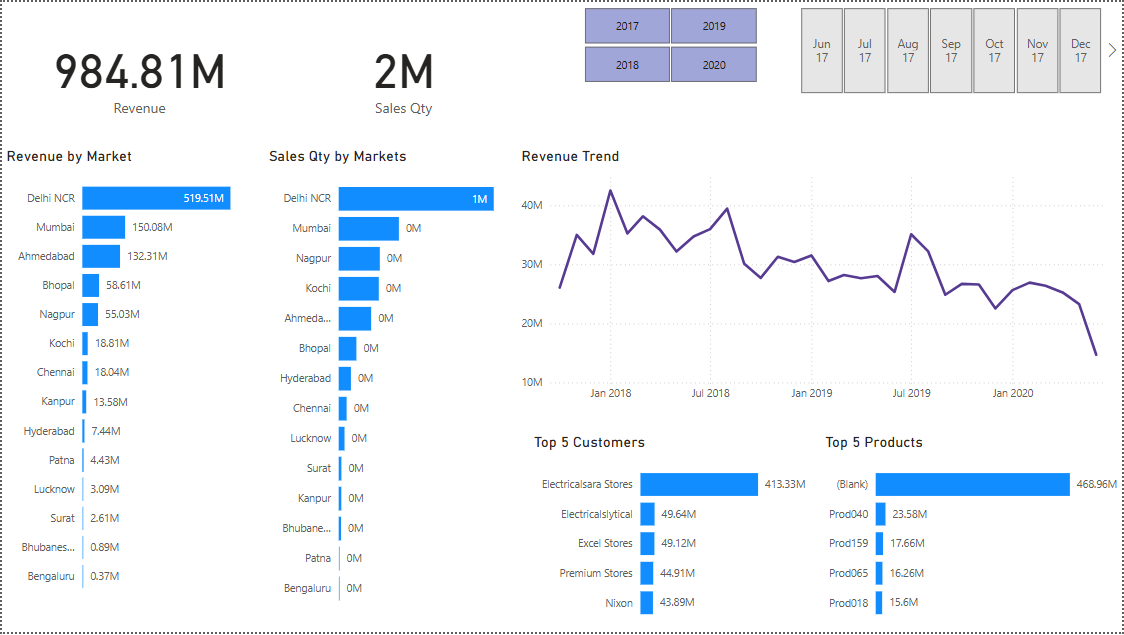

The dashboard page shown, as its layout file describes it:
{"tool":"powerbi","page":{"name":"Page 1","canvas":[1280,720],"ordinal":0},"visuals":[{"type":"card","fields":{"Values":["BaseMeasures.Revenue"]},"box":[0,0,314.6,165.6],"z":0},{"type":"card","fields":{"Values":["BaseMeasures.Sales Qty"]},"box":[314.6,0,289.7,165.6],"z":1},{"type":"barChart","title":"Revenue by Market","fields":{"Y":["BaseMeasures.Revenue"],"Category":["sales markets.markets_name"]},"box":[0,165.6,314.6,522.9],"z":2},{"type":"barChart","title":"Sales Qty by Markets","fields":{"Y":["BaseMeasures.Sales Qty"],"Category":["sales markets.markets_name"]},"box":[299.8,165.4,289.8,537.4],"z":3},{"type":"slicer","fields":{"Values":["sales date.year"]},"box":[640.6,0,246.3,98.3],"z":4},{"type":"slicer","fields":{"Values":["sales date.cy_date"]},"box":[886.9,0,393.1,110.7],"z":5},{"type":"lineChart","title":"Revenue Trend","fields":{"Y":["BaseMeasures.Revenue"],"Category":["sales date.cy_date.Variation.Date Hierarchy.Year","sales date.cy_date.Variation.Date Hierarchy.Quarter","sales date.cy_date.Variation.Date Hierarchy.Month","sales date.cy_date.Variation.Date Hierarchy.Day"]},"box":[589.1,165.6,691.2,299.4],"z":6},{"type":"barChart","title":"Top 5 Customers","fields":{"Y":["BaseMeasures.Revenue"],"Category":["sales customers.custmer_name"]},"box":[603.2,493.1,321.7,226.5],"z":7},{"type":"barChart","title":"Top 5 Products","fields":{"Y":["BaseMeasures.Revenue"],"Category":["sales products.product_code"]},"box":[935.5,493.1,345,226.5],"z":8}]}

Visuals, with their boxes in screenshot pixels (x1, y1, x2, y2), scaled from the page's 1280x720 canvas onto the 1124x635 screenshot:
card - BaseMeasures.Revenue: region(0, 0, 276, 146)
card - BaseMeasures.Sales Qty: region(276, 0, 531, 146)
"Revenue by Market" barChart: region(0, 146, 276, 607)
"Sales Qty by Markets" barChart: region(263, 146, 518, 620)
slicer - sales date.year: region(563, 0, 779, 87)
slicer - sales date.cy_date: region(779, 0, 1123, 98)
"Revenue Trend" lineChart: region(517, 146, 1123, 410)
"Top 5 Customers" barChart: region(530, 435, 812, 634)
"Top 5 Products" barChart: region(821, 435, 1123, 634)
